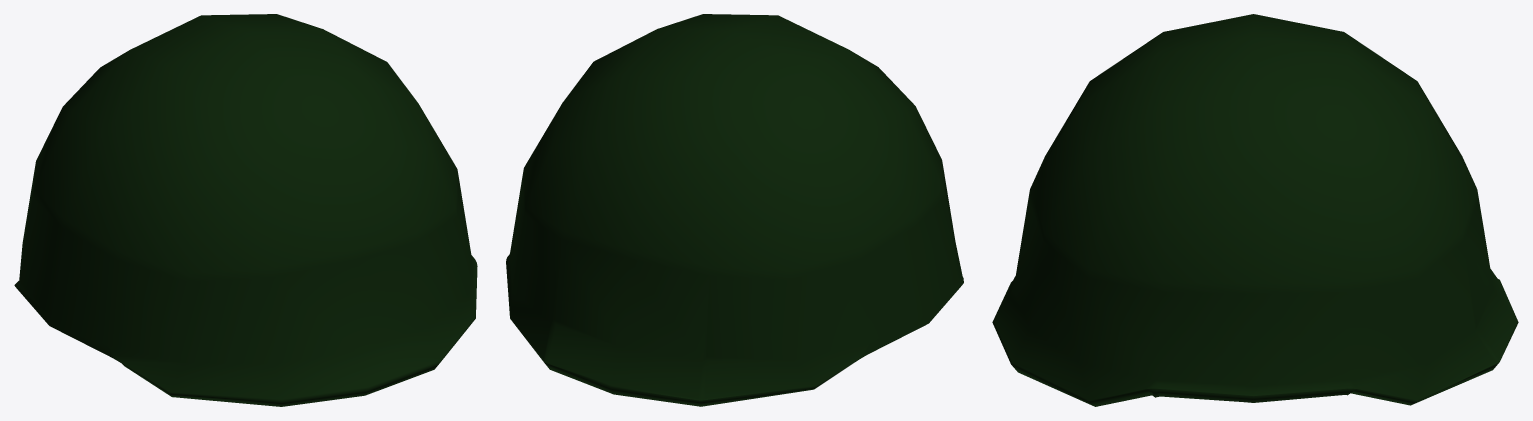
The model's file is 1945 MILITARY HELMET.fbx.
3 renders of one model, left to right at view 1: azimuth 30°, elevation 25°; view 2: azimuth 150°, elevation 25°; view 3: azimuth 270°, elevation 25°, orthographic. The views are drawn at different scales.
Visible parts, largest first — view 1: Cube; view 2: Cube; view 3: Cube.
Part boxes in pixels (x1=…): Cube: x1=14, y1=14, x2=477, y2=406; Cube: x1=506, y1=14, x2=963, y2=406; Cube: x1=992, y1=14, x2=1518, y2=406.
Bounding box in the file's own units: 170 × 114 × 184.
